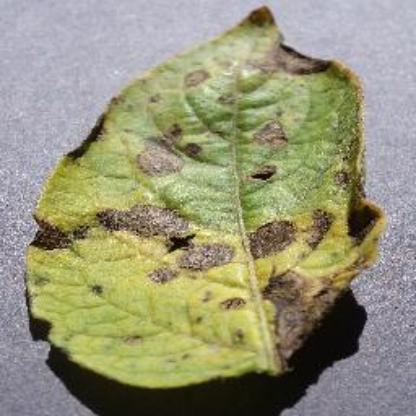Early-Blight: (17, 0, 406, 402)
